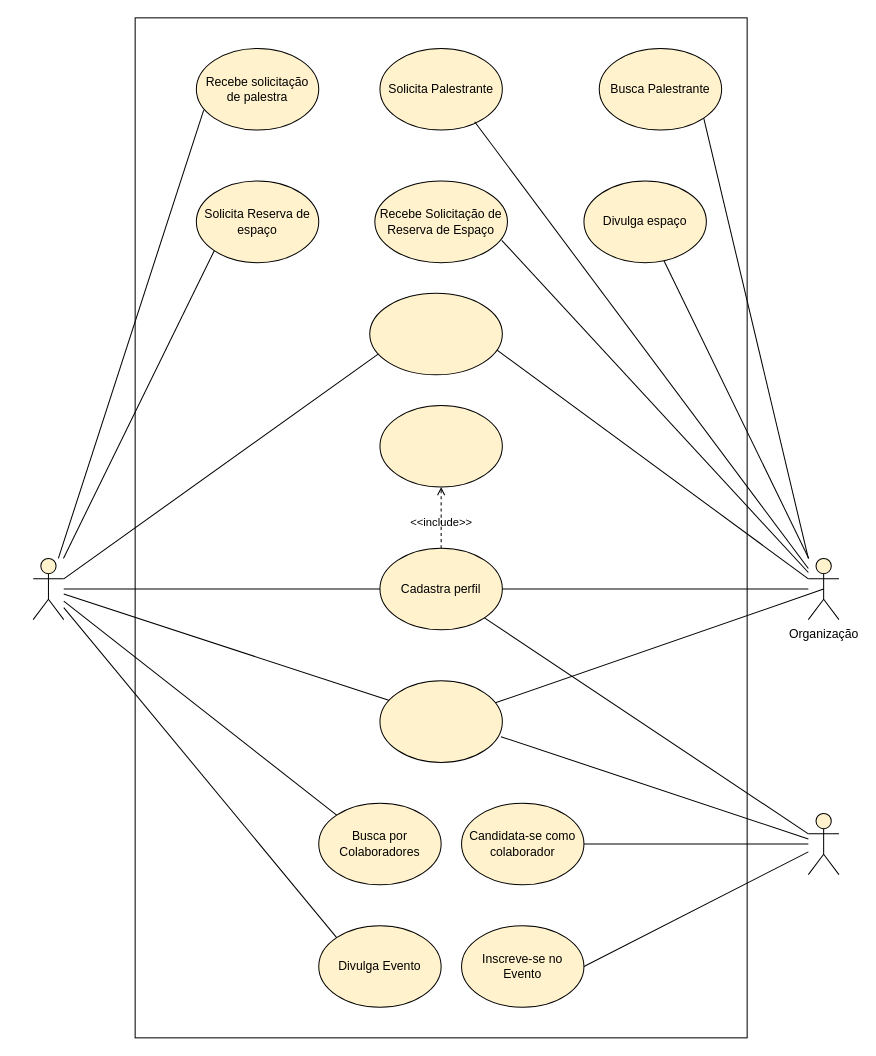
Image size: 876x1056. Some labels were removed from this diagram. The shapes that lost their labels are listed below. From the top down, each one's centre as x and y in pixels, then its label:
At point (435, 333): "Criar evento".
At point (440, 445): "Seleciona Tipo de Conta".
At point (48, 588): "Palestrante".
At point (440, 721): "Consulta Perfil".
At point (823, 843): "Usuário".
